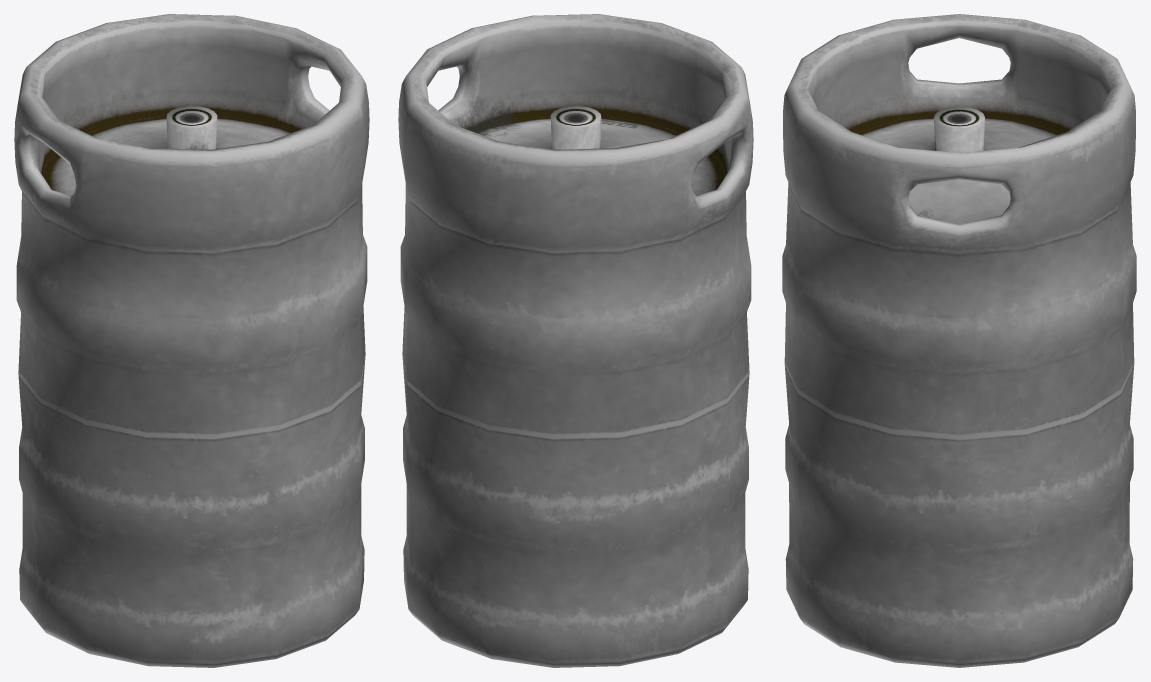
3 renders of one model, left to right at view 1: azimuth 30°, elevation 25°; view 2: azimuth 150°, elevation 25°; view 3: azimuth 270°, elevation 25°, orthographic.
Parts seen in each view (by area): view 1: Keg_Low; view 2: Keg_Low; view 3: Keg_Low.
Boxes of the visible parts, x1=… form: Keg_Low: x1=14, y1=14, x2=369, y2=667; Keg_Low: x1=398, y1=14, x2=753, y2=667; Keg_Low: x1=782, y1=14, x2=1136, y2=667.
Bounding box in the file's own units: 46.59 × 75.59 × 46.83.
Materials: 1 (1 with a texture image).
